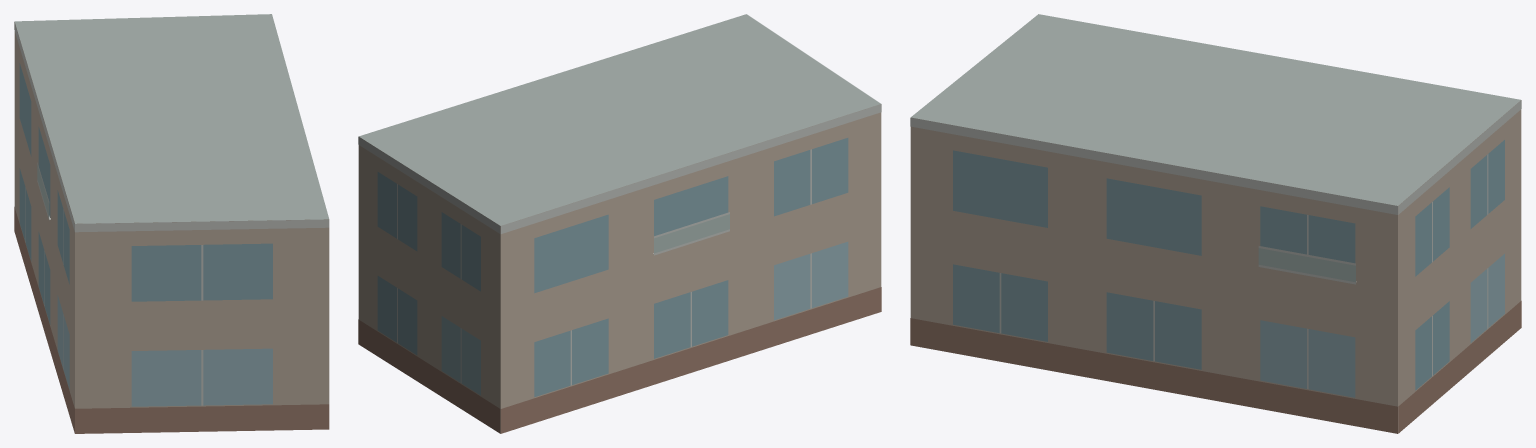
File: survey-upis-32913160.glb
The picture shows the model from 3 angles, left to right: view 1: azimuth 30°, elevation 25°; view 2: azimuth 150°, elevation 25°; view 3: azimuth 270°, elevation 25°; orthographic projection. The views are drawn at different scales.
Visible parts, largest first — view 1: survey-upis-32913160.tmp; view 2: survey-upis-32913160.tmp; view 3: survey-upis-32913160.tmp.
Boxes of the visible parts, x1,y1,x2,y2 form: survey-upis-32913160.tmp: (14, 14, 329, 433); survey-upis-32913160.tmp: (358, 14, 881, 433); survey-upis-32913160.tmp: (910, 14, 1521, 433).
Size of the model in its own units: 11.03 by 6.1 by 14.83.
